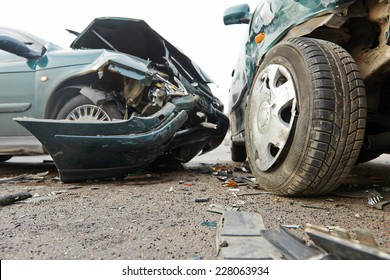accident: (1, 25, 390, 219)
